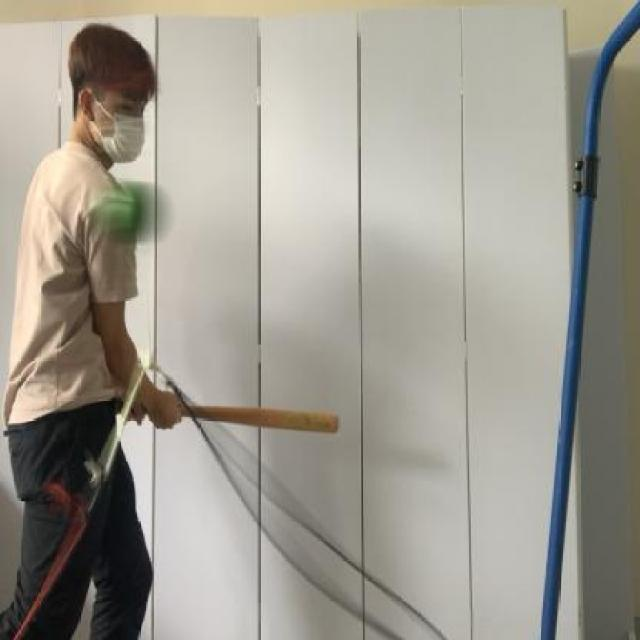baseball: (91, 174, 177, 254)
